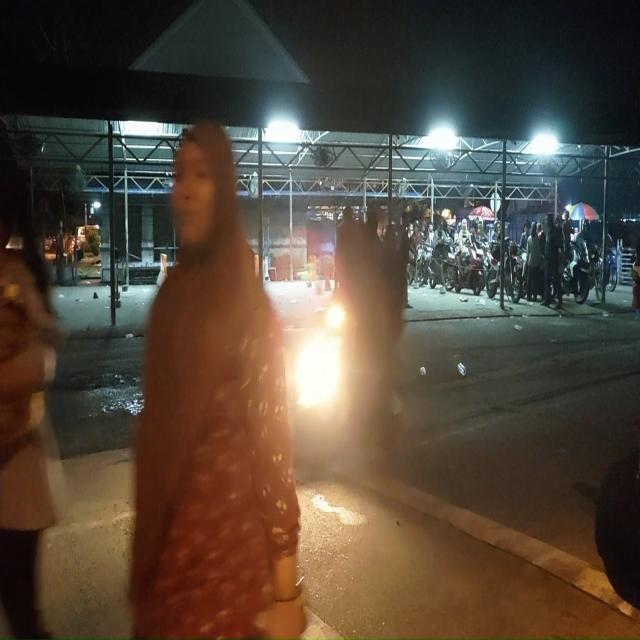Golongan II: (286, 302, 402, 460), (486, 240, 525, 304), (561, 238, 590, 304), (588, 247, 618, 301), (454, 247, 484, 296), (407, 244, 430, 286), (605, 249, 618, 292)
